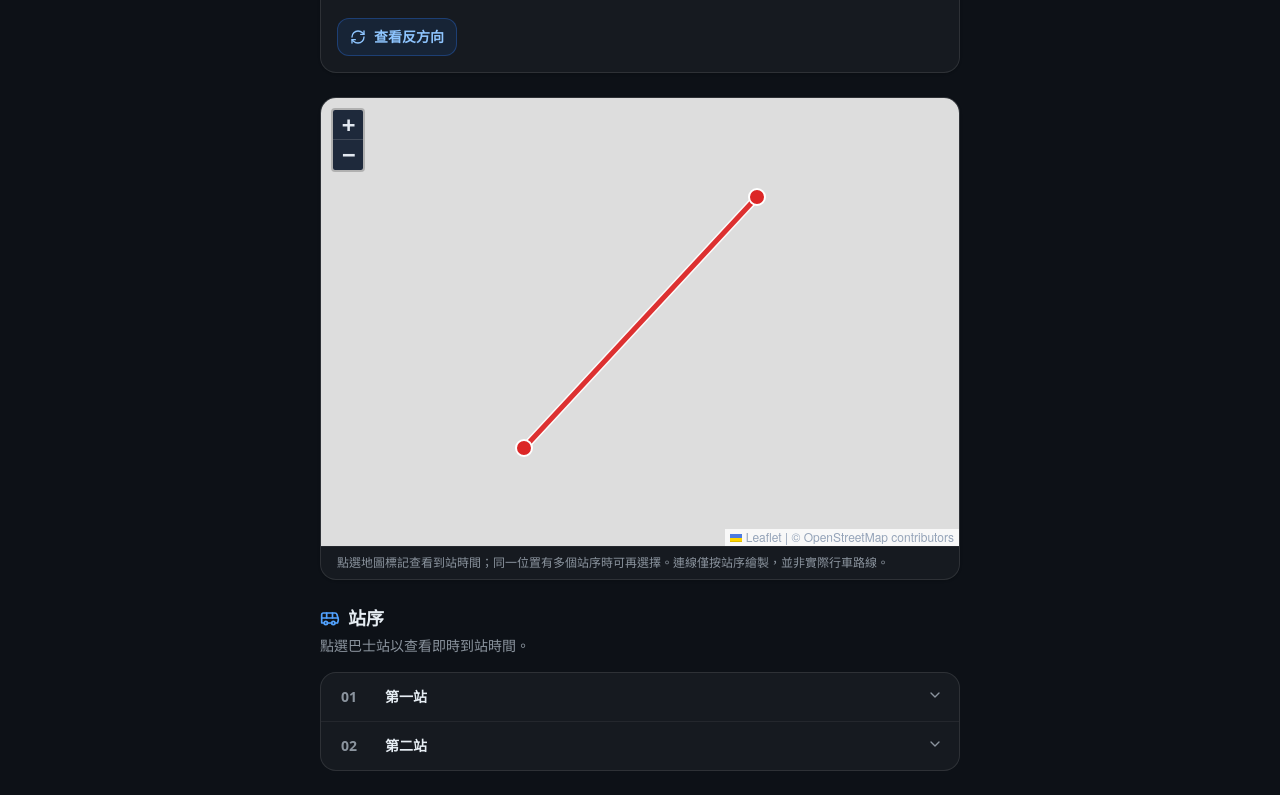
Scenario: RouteDetailPage › distinguishes an empty ETA response from an unavailable ETA service for a selected stop
(page scrolled)
Expected: the text "第一站" is shown, [385, 686, 427, 706]
Click the button "01 第一站" at coordinates (406, 696), box [321, 672, 959, 720]
(page scrolled)
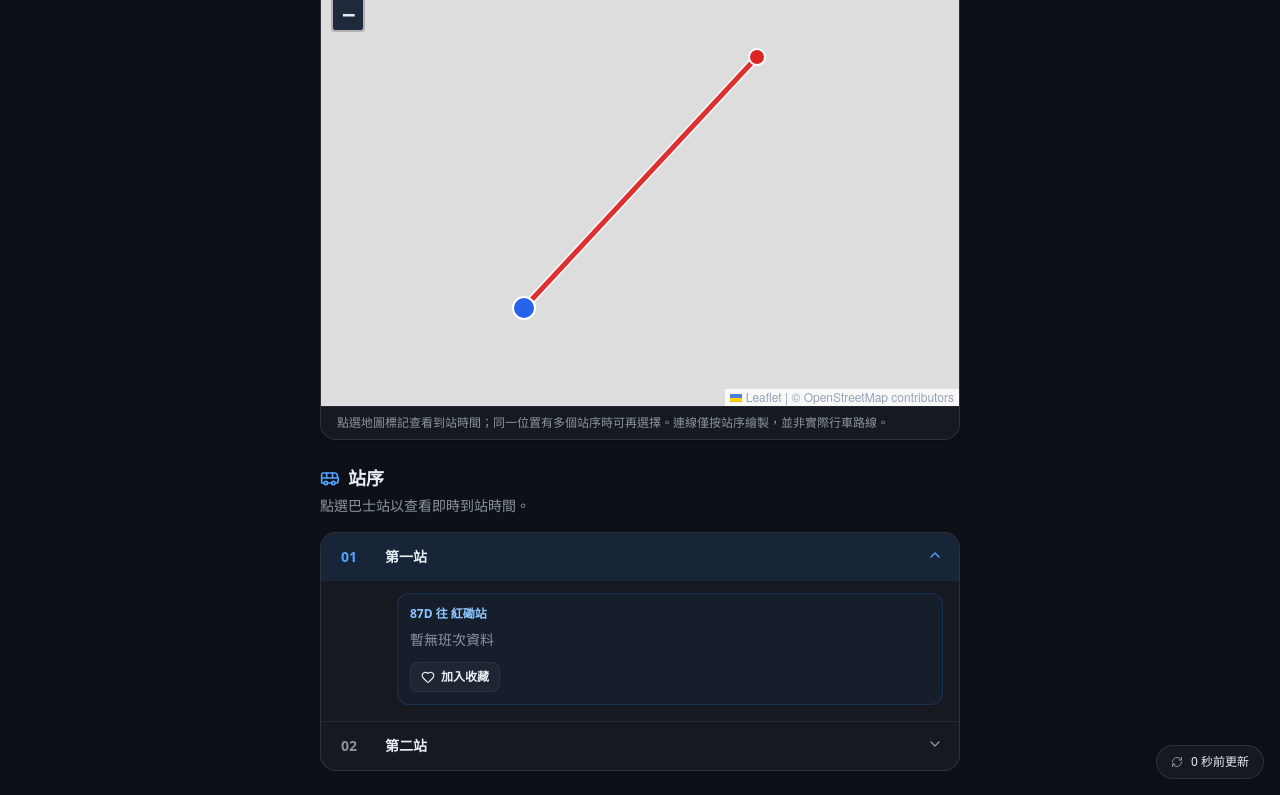
Now the text "暫無班次資料" is shown, box [410, 630, 494, 648]
Click the button "02 第二站" at coordinates (406, 745), box [321, 722, 959, 770]
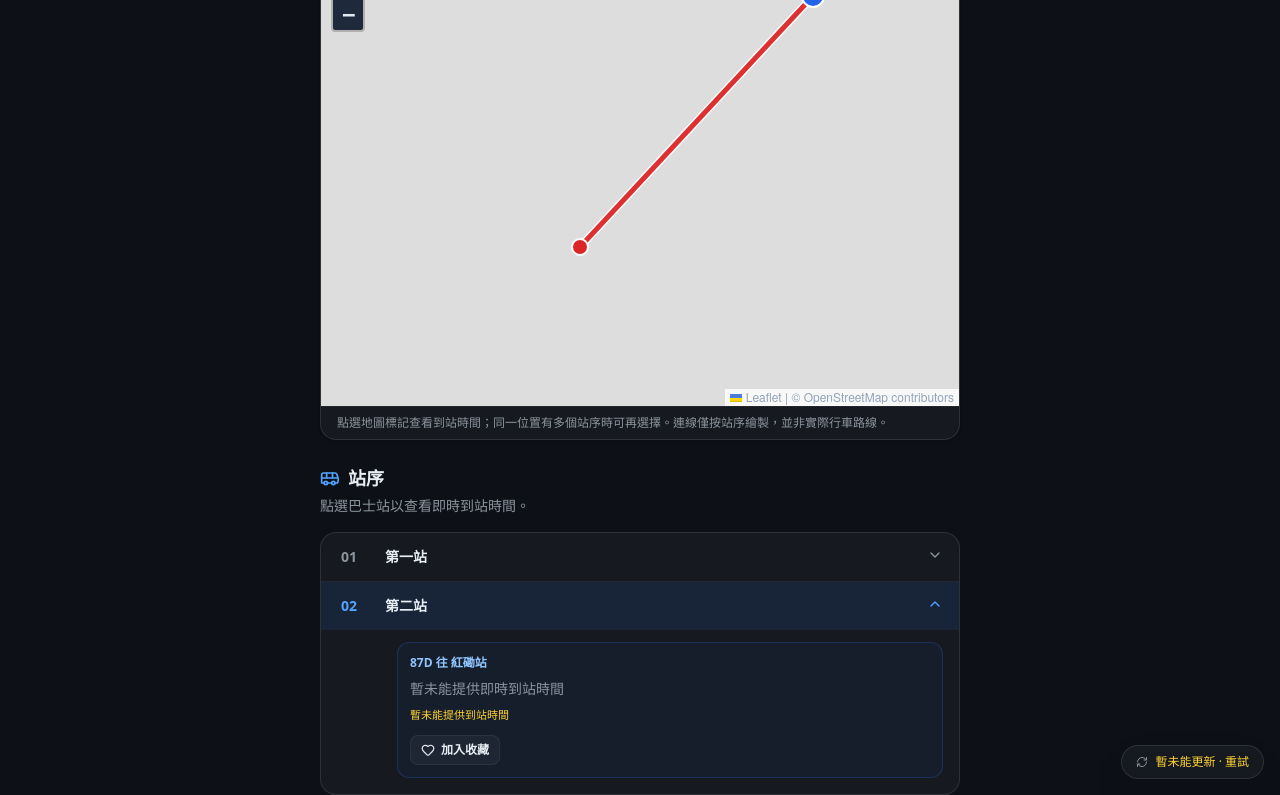
Now the text "暫未能提供即時到站時間" is shown, box [410, 678, 564, 698]
Now the text "暫未能提供到站時間" is shown, box [410, 706, 509, 722]
